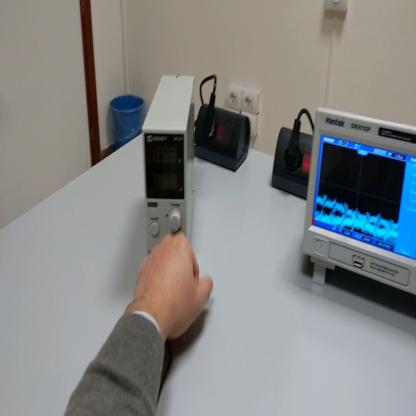hand: (131, 231, 212, 343)
oscilloscope: (303, 106, 416, 298)
power supply: (143, 70, 201, 270)
socket: (196, 107, 252, 175), (270, 125, 314, 201)
